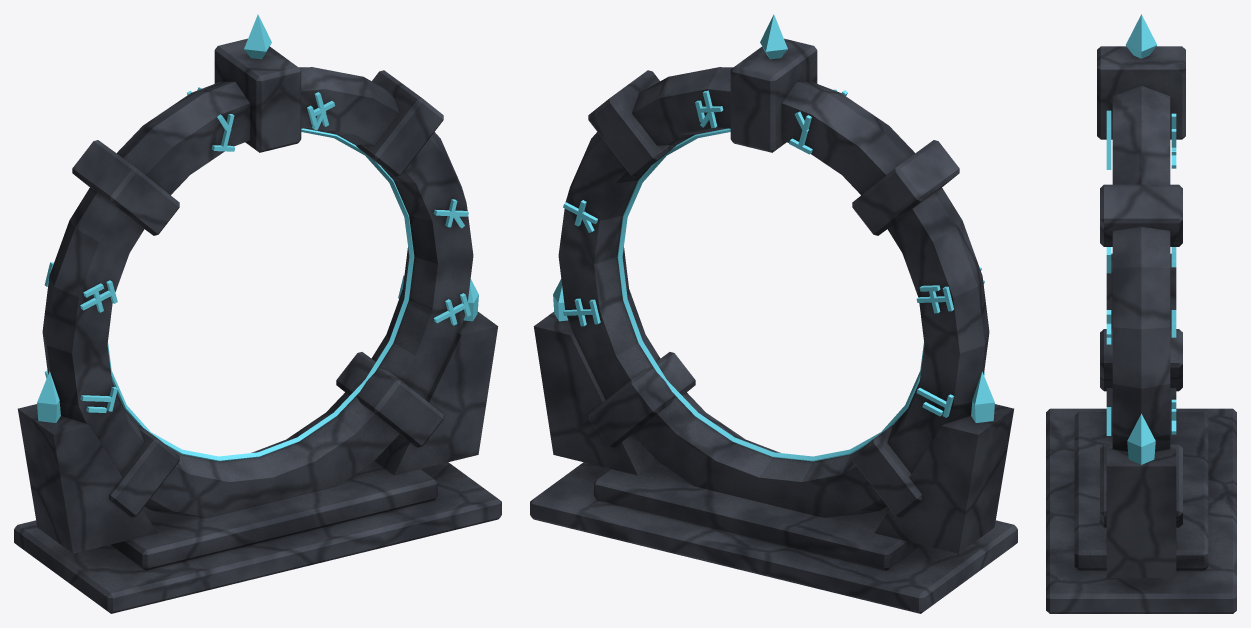
File: portal_base.fbx
The picture shows the model from 3 angles, left to right: view 1: azimuth 30°, elevation 25°; view 2: azimuth 150°, elevation 25°; view 3: azimuth 270°, elevation 25°; orthographic projection. The views are drawn at different scales.
Visible parts, largest first — view 1: portal_base, portal_base_runas; view 2: portal_base, portal_base_runas; view 3: portal_base, portal_base_runas.
Part boxes in pixels (left/top/right/bottom): portal_base: left=14, top=38, right=501, bottom=613; portal_base_runas: left=37, top=14, right=478, bottom=461; portal_base: left=530, top=38, right=1017, bottom=613; portal_base_runas: left=553, top=14, right=994, bottom=461; portal_base: left=1046, top=46, right=1236, bottom=613; portal_base_runas: left=1106, top=14, right=1176, bottom=464.
Bounding box in the file's own units: 15.8 × 17.6 × 6.
2 materials, 2 textured.
